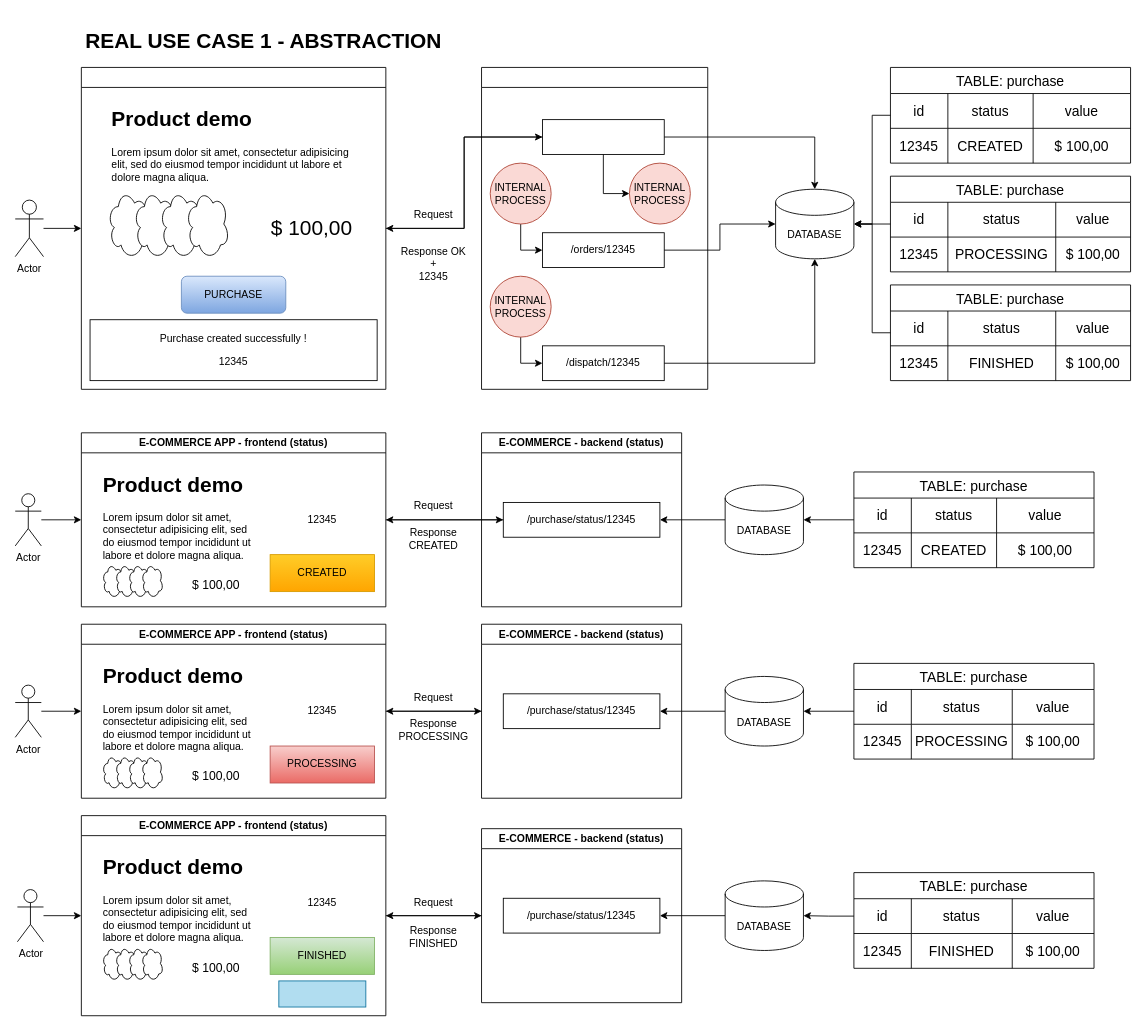
The diagram is 1146 pixels wide and 1031 high, and some of its shapes have lost their labels. The box of each missing label's shape, as (x1, y1, x2, y2) in pixels:
/purchase: (542, 119, 664, 154)
E-COMMERCE - backend (producer): (481, 67, 708, 389)
E-COMMERCE APP - frontend (purchase): (80, 67, 386, 389)
Tracking: (278, 980, 366, 1007)
